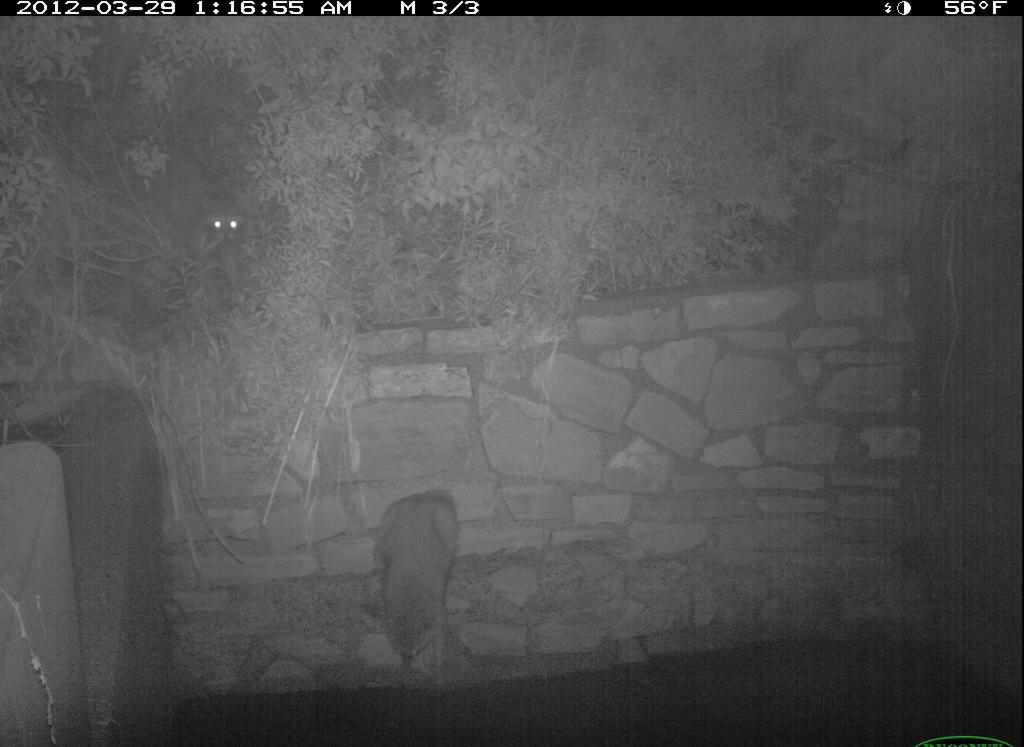raccoon: (358, 469, 470, 690), (123, 139, 258, 303)
